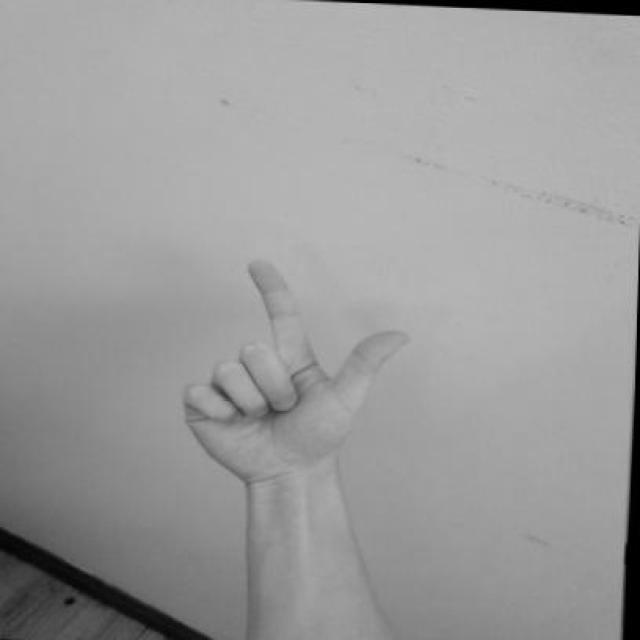L: (174, 247, 424, 495)
